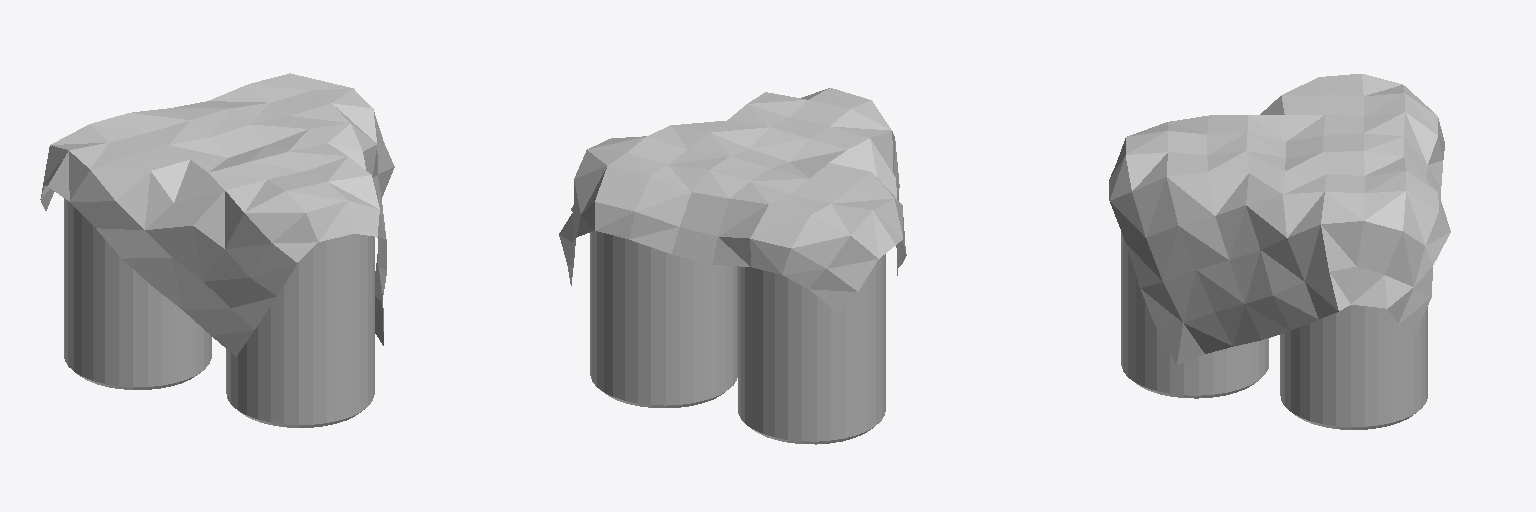
Rendered from Barrel_trippleCloth.obj.
3 views of the same model, side by side, from view 1: azimuth 30°, elevation 25°; view 2: azimuth 150°, elevation 25°; view 3: azimuth 270°, elevation 25° (orthographic).
Visible parts, largest first — view 1: 3_barrels_cloth; view 2: 3_barrels_cloth; view 3: 3_barrels_cloth.
Boxes of the visible parts, box(x1,y1,x2,y2) form: 3_barrels_cloth: box(40, 73, 394, 427); 3_barrels_cloth: box(559, 88, 906, 444); 3_barrels_cloth: box(1109, 74, 1450, 429).
Bounding box in the file's own units: 2.1 × 1.35 × 1.85.